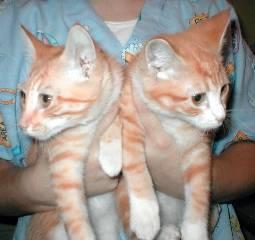cat: (9, 11, 255, 240)
